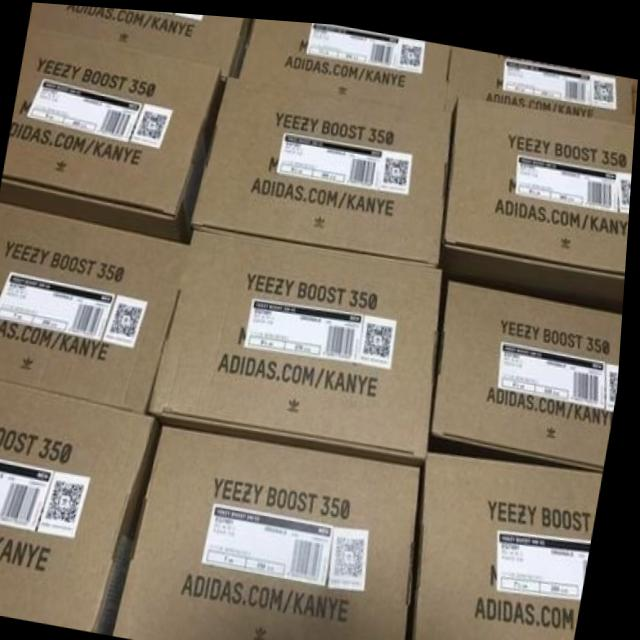box: (153, 220, 445, 459), (122, 425, 427, 640), (193, 72, 453, 260), (2, 26, 225, 240), (0, 377, 165, 632), (440, 90, 636, 304), (0, 200, 193, 410), (420, 446, 607, 640), (436, 272, 626, 460), (236, 15, 452, 105), (28, 2, 251, 77), (443, 40, 636, 117)
